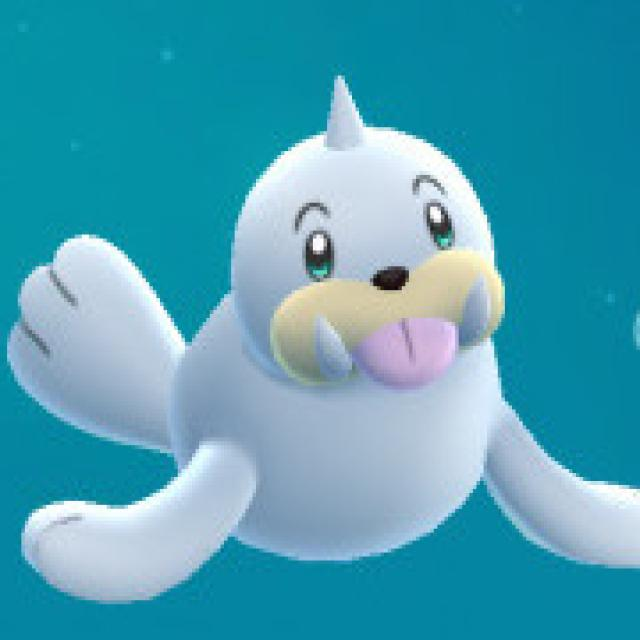Seel: (123, 70, 541, 577)
